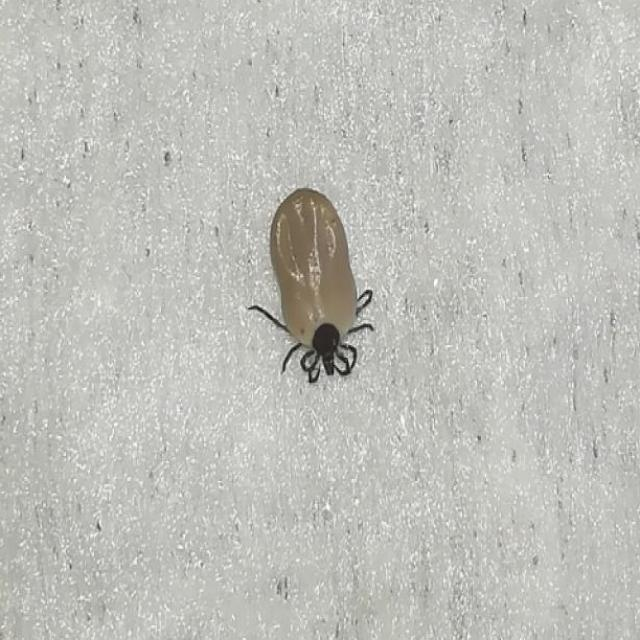Ixodes Ricinus-F-Fed: (251, 188, 374, 386)
